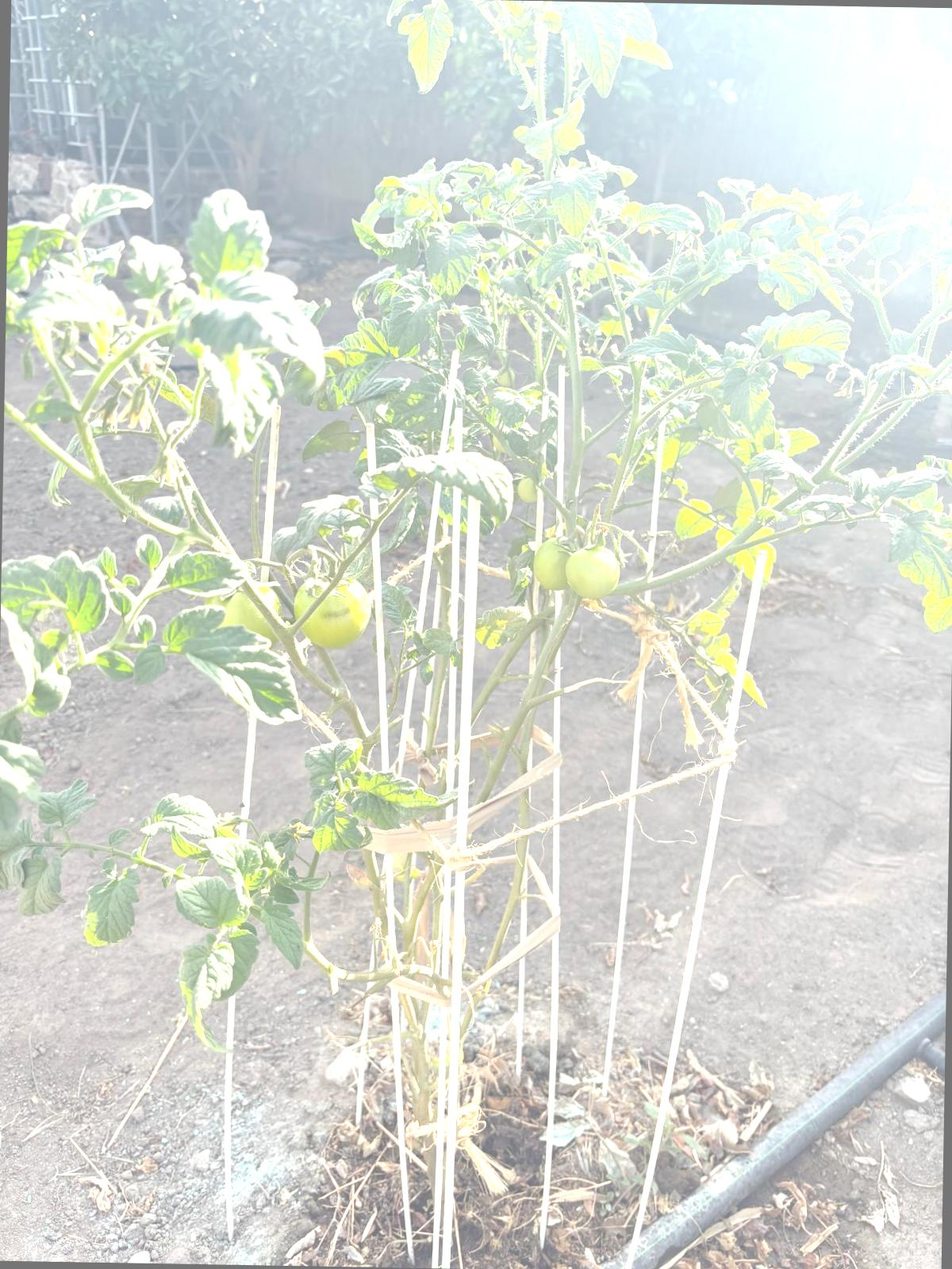tomatera: (33, 255, 736, 1190)
